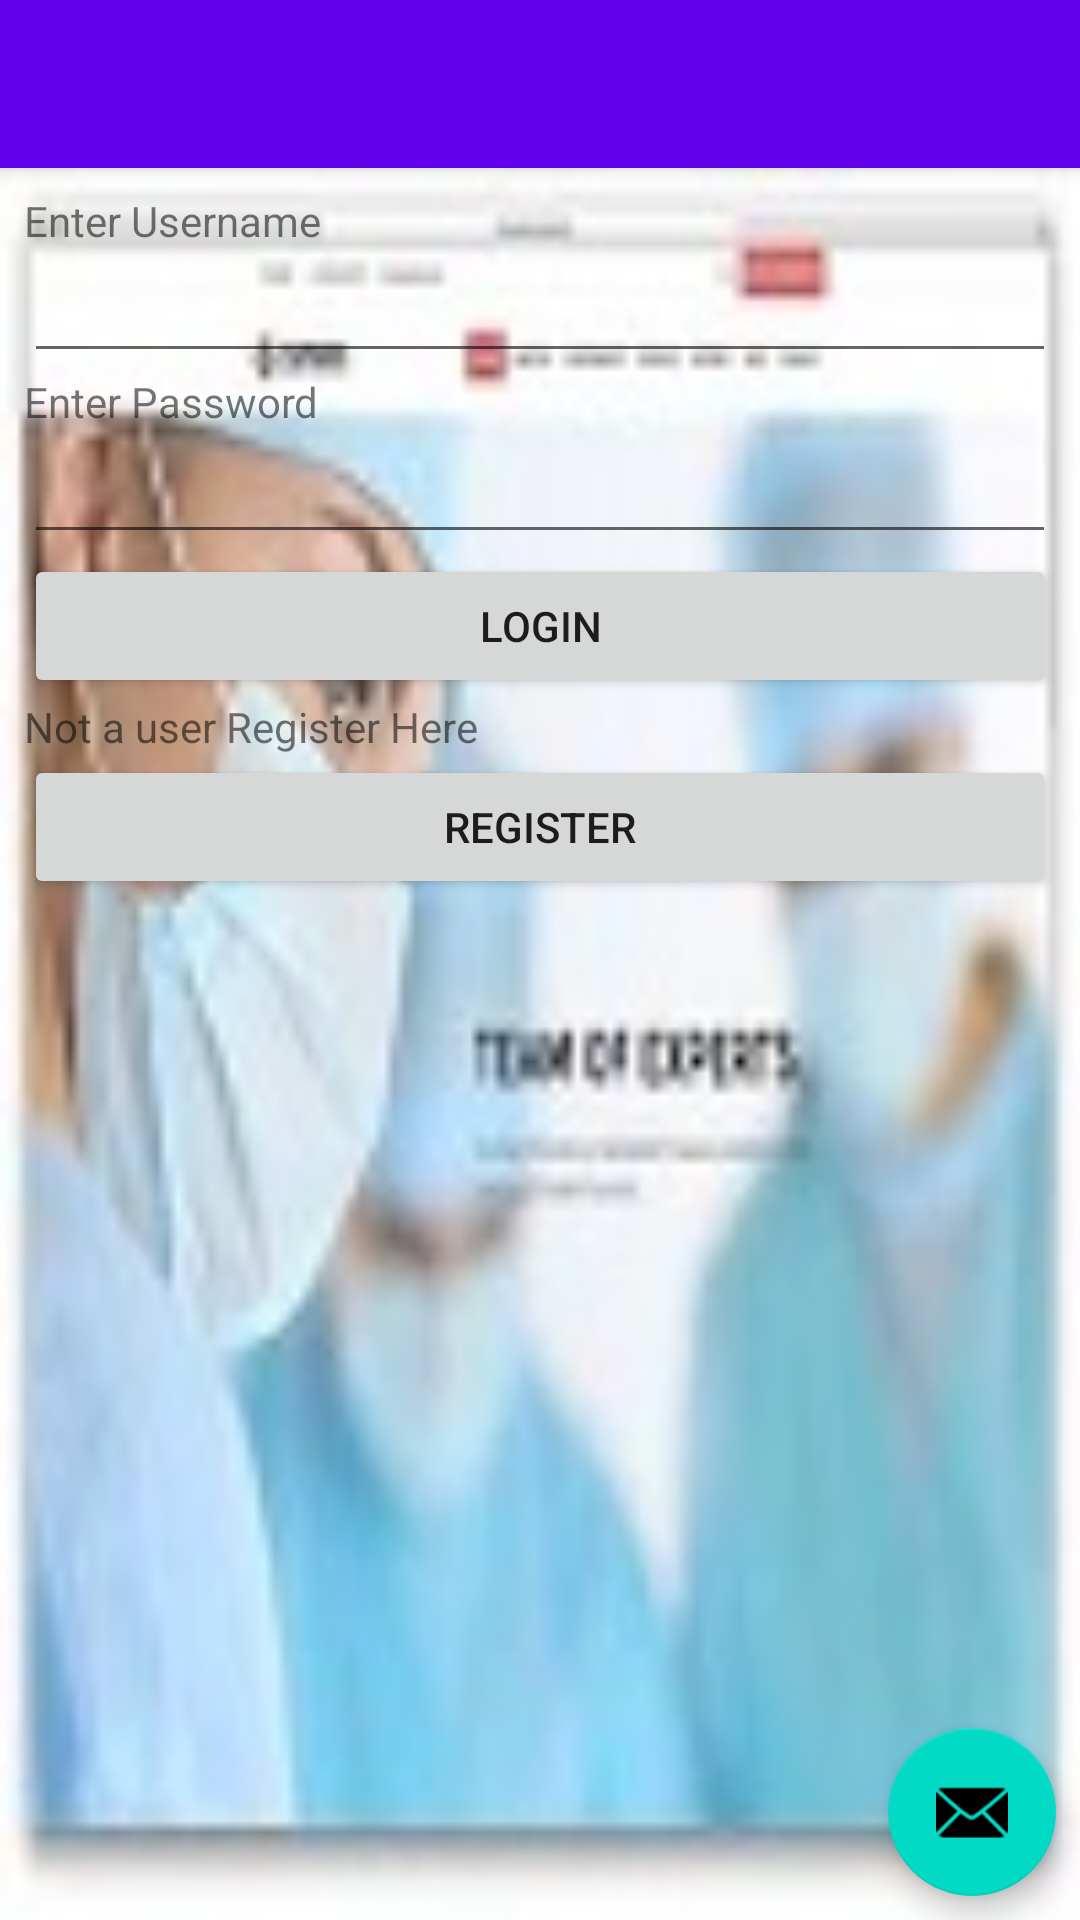

Screen size 1080 × 1920. Icon name, then its center in pixels as (x=x, y=y):
email: (x=972, y=1812)
